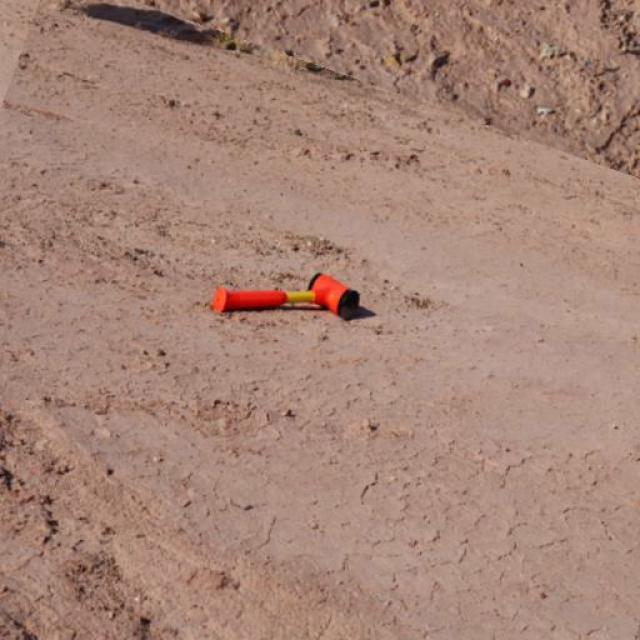mallet: (211, 270, 361, 319)
